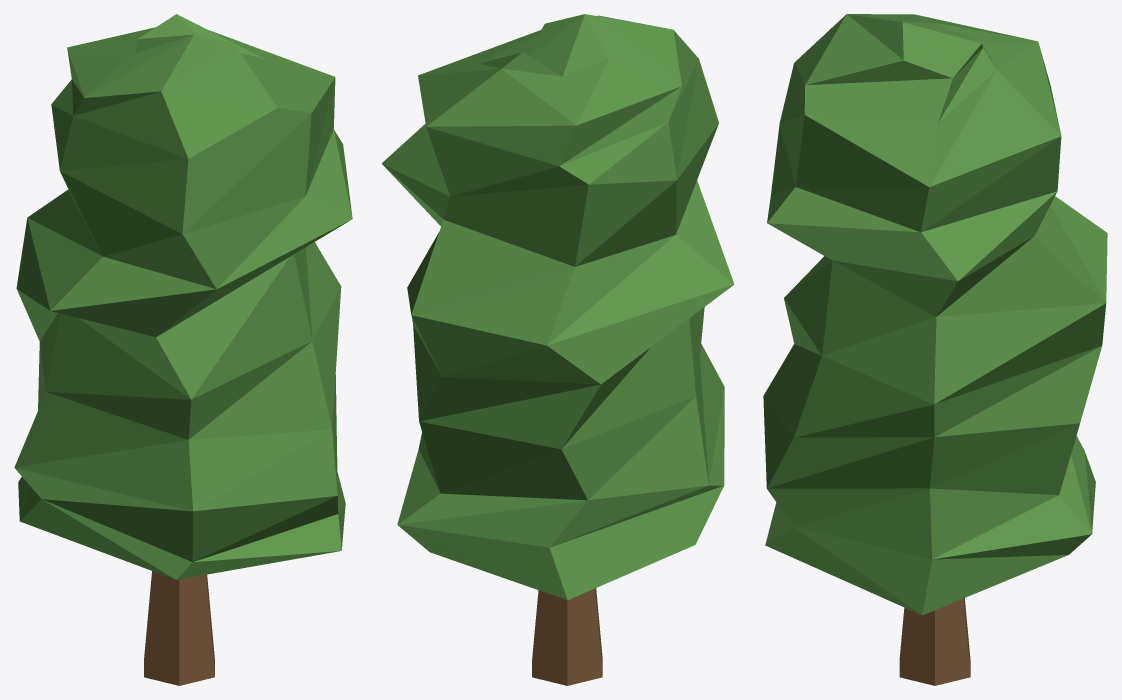
File: tree3d-102.glb
3 views of the same model, side by side, from view 1: azimuth 30°, elevation 25°; view 2: azimuth 150°, elevation 25°; view 3: azimuth 270°, elevation 25° (orthographic).
Visible parts, largest first — view 1: tree3d-102; view 2: tree3d-102; view 3: tree3d-102.
Part boxes in pixels (x1=…): tree3d-102: x1=14, y1=14, x2=352, y2=685; tree3d-102: x1=381, y1=14, x2=734, y2=685; tree3d-102: x1=763, y1=14, x2=1107, y2=685.
Size of the model in its own units: 0.5325 by 1 by 0.4831.
